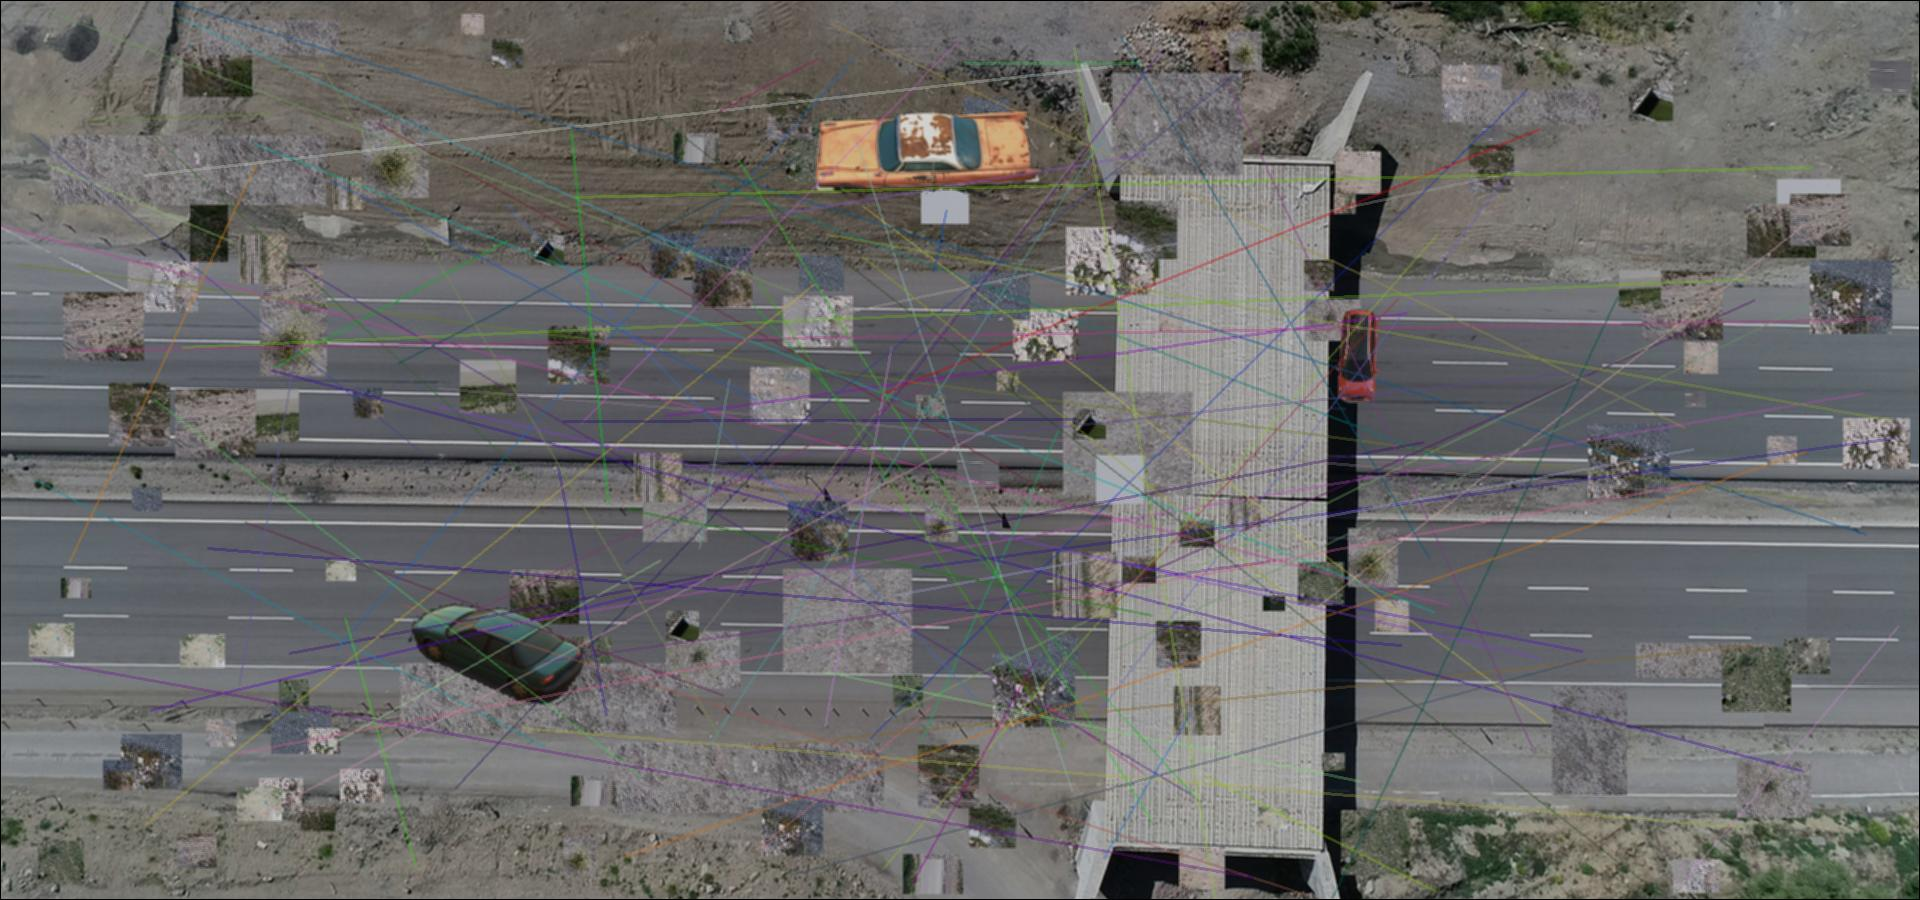arac: (804, 108, 1068, 197), (404, 593, 587, 705), (1333, 309, 1380, 405)
